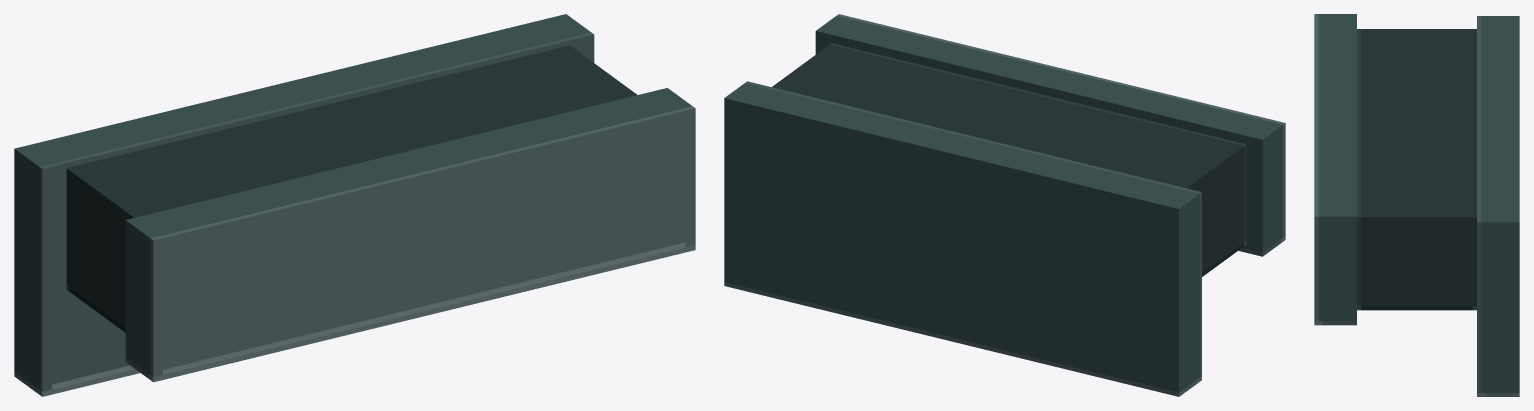
Rendered from stone_shrine_2.obj.
3 renders of one model, left to right at view 1: azimuth 30°, elevation 25°; view 2: azimuth 150°, elevation 25°; view 3: azimuth 270°, elevation 25°, orthographic. The views are drawn at different scales.
Bounding box in the file's own units: 11.4 × 4.6 × 4.8.
1 material, 1 textured.
